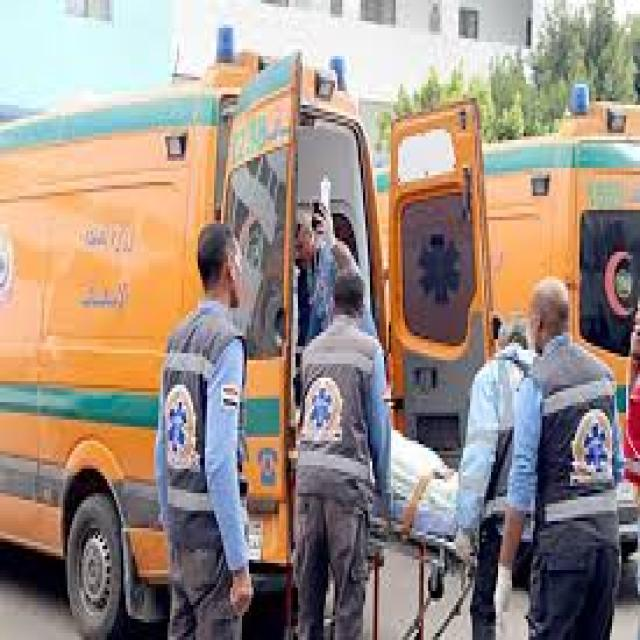Ambulance: (0, 35, 410, 615), (472, 67, 640, 578)
person: (491, 276, 624, 636), (154, 220, 254, 636), (291, 248, 391, 636), (452, 315, 536, 636)
